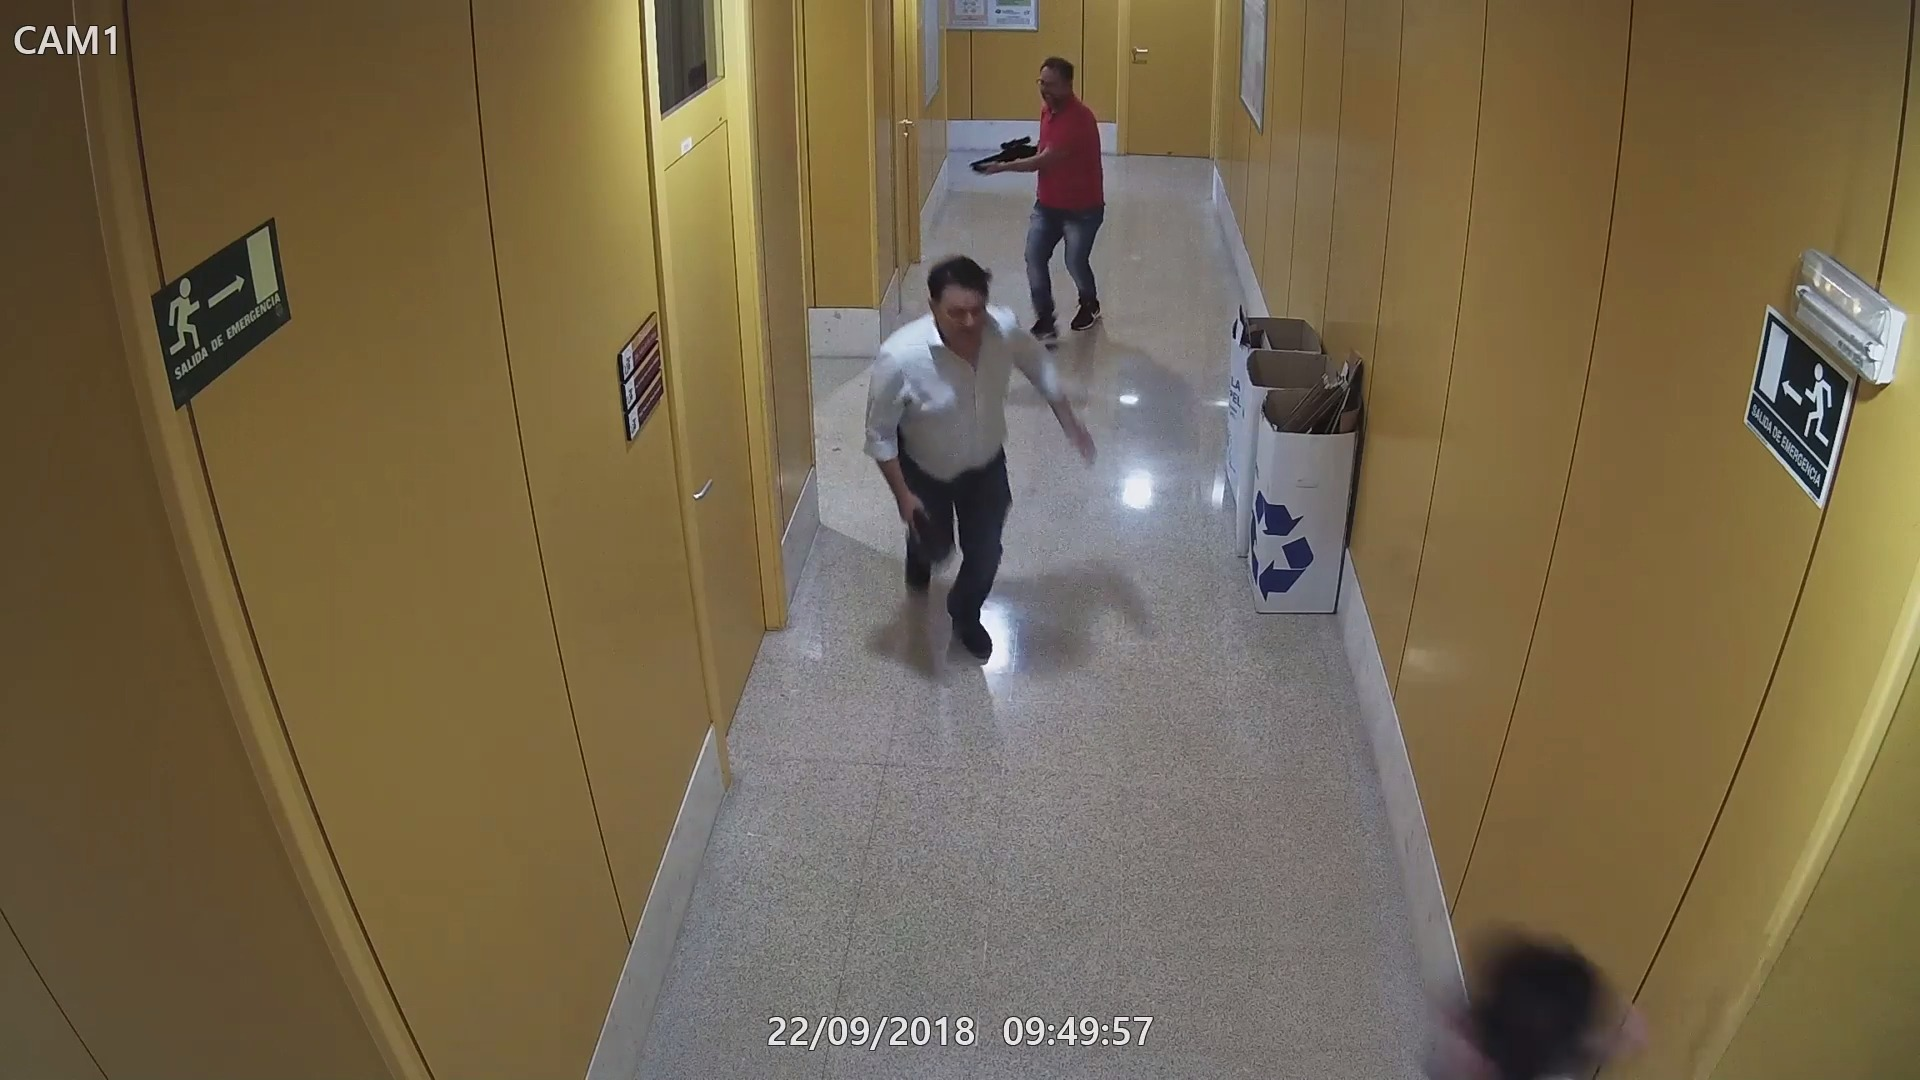Handgun: (899, 493, 942, 564)
Short_rifle: (971, 133, 1043, 174)
